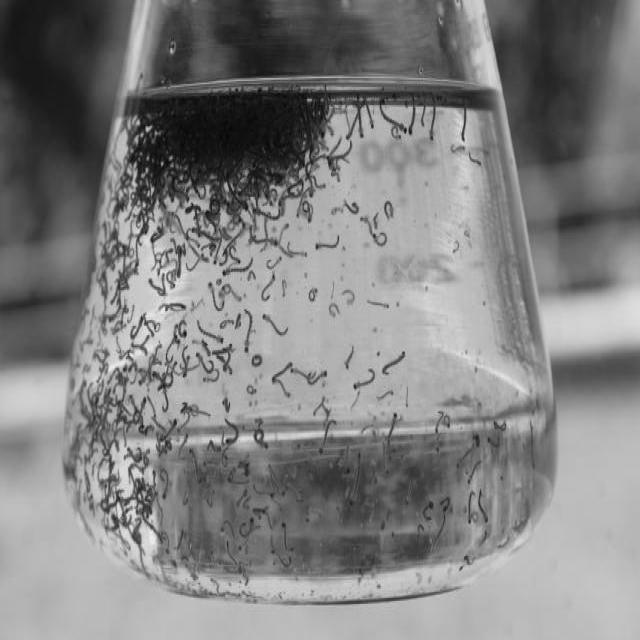larvas: (120, 512, 146, 552), (378, 100, 407, 134), (223, 224, 247, 252), (226, 182, 249, 210), (197, 320, 224, 342), (350, 451, 361, 504), (319, 422, 337, 454), (455, 438, 474, 468), (346, 106, 363, 139), (142, 514, 162, 542), (223, 257, 254, 275), (296, 187, 312, 219), (383, 352, 405, 374), (270, 462, 285, 494), (192, 228, 222, 244), (262, 314, 288, 332), (253, 204, 282, 220), (327, 144, 355, 160), (220, 282, 242, 302), (188, 446, 200, 482), (355, 369, 375, 390), (433, 515, 446, 547), (252, 508, 272, 528), (254, 480, 274, 500), (209, 284, 224, 310), (261, 212, 271, 251), (244, 309, 253, 352), (316, 234, 340, 250), (261, 274, 275, 301), (428, 94, 436, 141), (478, 488, 489, 522), (270, 550, 292, 567), (96, 351, 108, 382), (131, 314, 147, 337), (282, 523, 294, 552), (196, 353, 214, 372), (288, 240, 307, 258), (70, 424, 81, 455), (272, 362, 292, 379), (160, 420, 177, 440), (73, 380, 86, 405), (387, 414, 397, 446), (226, 542, 238, 568), (468, 460, 482, 482), (183, 558, 197, 580), (370, 230, 388, 247), (272, 379, 290, 396), (330, 197, 346, 216), (225, 419, 238, 442), (466, 491, 475, 524), (327, 138, 343, 156), (141, 361, 153, 385), (306, 371, 328, 384), (177, 412, 190, 434), (187, 257, 209, 270), (364, 99, 374, 127), (240, 516, 254, 536), (223, 343, 233, 371), (129, 395, 141, 418), (86, 434, 97, 459), (109, 301, 122, 322), (356, 102, 364, 136), (148, 280, 164, 297), (136, 397, 146, 424), (177, 217, 189, 239), (290, 368, 316, 378), (117, 530, 130, 550), (95, 352, 108, 372), (409, 98, 416, 135), (189, 242, 205, 258), (115, 307, 128, 326), (84, 457, 91, 492), (433, 412, 445, 432), (160, 469, 168, 499), (266, 255, 282, 270), (156, 252, 166, 276), (218, 357, 232, 374), (166, 338, 175, 364), (160, 531, 170, 554), (345, 345, 354, 370), (97, 459, 106, 484), (288, 180, 303, 195), (104, 470, 118, 486), (159, 374, 173, 390), (126, 220, 134, 248), (90, 385, 104, 401), (221, 446, 231, 468), (158, 503, 164, 538), (350, 389, 361, 408), (342, 289, 355, 305), (152, 414, 165, 430), (252, 238, 278, 246), (382, 437, 388, 471), (314, 398, 326, 415), (210, 578, 220, 598), (179, 433, 187, 458), (99, 434, 108, 456), (278, 225, 289, 243), (327, 102, 336, 124), (204, 369, 218, 383), (128, 447, 142, 461), (389, 125, 402, 140), (344, 201, 359, 214), (199, 339, 211, 355), (127, 463, 143, 475), (132, 342, 148, 354), (225, 519, 235, 538), (123, 450, 142, 460), (108, 438, 118, 457), (368, 299, 389, 308), (148, 397, 157, 418), (126, 306, 135, 327), (423, 502, 434, 519), (100, 300, 106, 331), (186, 408, 209, 416), (469, 152, 482, 166), (360, 217, 373, 231), (488, 433, 501, 447), (146, 319, 160, 332), (138, 421, 152, 434), (126, 265, 140, 278), (194, 184, 207, 198), (116, 496, 126, 514), (302, 204, 313, 220), (172, 322, 180, 344), (152, 226, 163, 242), (308, 143, 316, 165), (461, 107, 466, 141), (384, 201, 394, 218), (153, 342, 163, 359), (136, 366, 153, 376), (79, 340, 96, 350), (312, 177, 326, 189), (162, 388, 169, 412), (108, 369, 120, 383), (253, 429, 264, 444), (102, 500, 117, 511), (376, 391, 394, 400), (97, 278, 106, 296), (403, 386, 410, 409), (212, 349, 235, 356), (120, 378, 127, 401), (440, 496, 450, 512), (230, 248, 240, 264), (262, 178, 270, 198), (183, 346, 188, 377), (135, 237, 140, 268), (140, 452, 149, 469), (176, 530, 184, 549), (124, 416, 143, 424), (167, 270, 175, 289), (278, 193, 286, 212), (106, 516, 116, 531), (373, 210, 381, 228), (480, 529, 488, 547), (322, 398, 328, 422), (203, 457, 215, 469), (161, 304, 185, 310), (121, 252, 127, 276), (164, 250, 173, 266), (329, 304, 339, 318), (237, 491, 247, 505), (220, 318, 234, 328), (103, 270, 108, 298), (463, 556, 475, 567), (207, 440, 218, 452), (106, 476, 112, 498), (213, 243, 219, 265), (421, 101, 426, 127), (330, 168, 340, 181), (152, 372, 165, 382), (118, 350, 131, 360), (304, 162, 312, 178), (112, 284, 119, 302), (185, 204, 199, 213), (450, 146, 465, 154), (240, 463, 250, 475), (206, 492, 214, 507), (252, 355, 262, 367), (134, 518, 142, 533), (170, 361, 178, 376), (128, 361, 138, 373), (143, 505, 153, 517), (219, 251, 227, 266), (443, 412, 450, 429), (108, 456, 115, 473), (361, 424, 374, 433), (279, 243, 288, 256), (328, 158, 336, 172), (416, 524, 424, 538), (242, 498, 250, 512), (235, 312, 242, 328), (222, 398, 230, 412), (180, 320, 187, 336), (146, 322, 154, 336), (112, 326, 126, 334), (152, 243, 156, 271), (178, 250, 182, 278), (246, 384, 257, 394), (309, 288, 318, 300), (183, 491, 190, 506), (248, 267, 255, 282), (452, 240, 460, 253), (88, 380, 92, 406), (470, 436, 480, 446), (123, 423, 127, 448), (156, 443, 166, 453), (253, 420, 264, 429), (327, 122, 334, 136), (494, 422, 506, 430), (124, 497, 136, 505), (248, 228, 254, 244), (130, 471, 136, 486), (180, 365, 198, 370), (115, 338, 121, 353), (156, 434, 160, 456), (117, 287, 122, 304), (228, 470, 235, 482), (181, 400, 187, 414), (165, 439, 172, 451), (332, 279, 336, 299), (84, 363, 90, 376), (97, 328, 101, 346), (142, 336, 149, 346), (152, 469, 156, 486), (283, 281, 287, 298), (162, 273, 166, 290)
